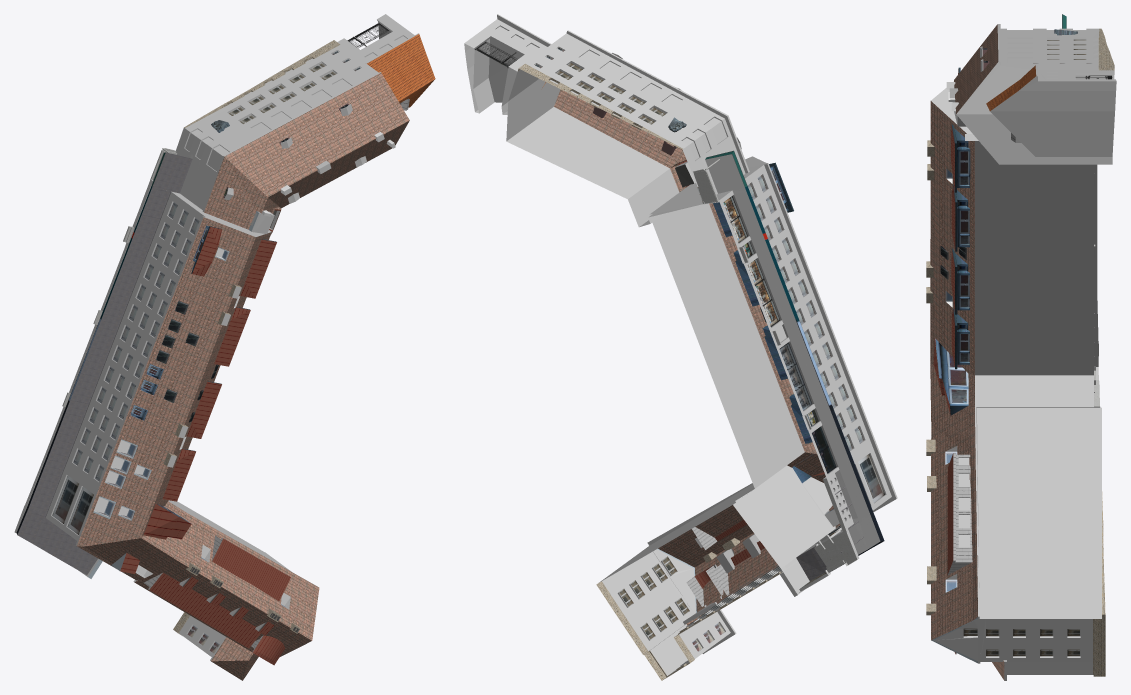
Rendered from Harju_1.obj.
3 renders of one model, left to right at view 1: azimuth 30°, elevation 25°; view 2: azimuth 150°, elevation 25°; view 3: azimuth 270°, elevation 25°, orthographic. The views are drawn at different scales.
Parts seen in each view (by area): view 1: Harju_1; view 2: Harju_1; view 3: Harju_1.
Part boxes in pixels (x1,y1,x2,y2): Harju_1: (14, 14, 435, 680); Harju_1: (464, 14, 897, 680); Harju_1: (926, 14, 1116, 680).
Bounding box in the file's own units: 62.39 × 90.17 × 21.69.
